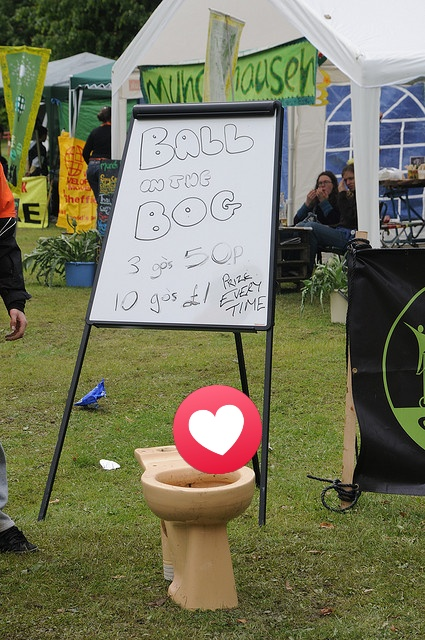love: (173, 385, 262, 474)
